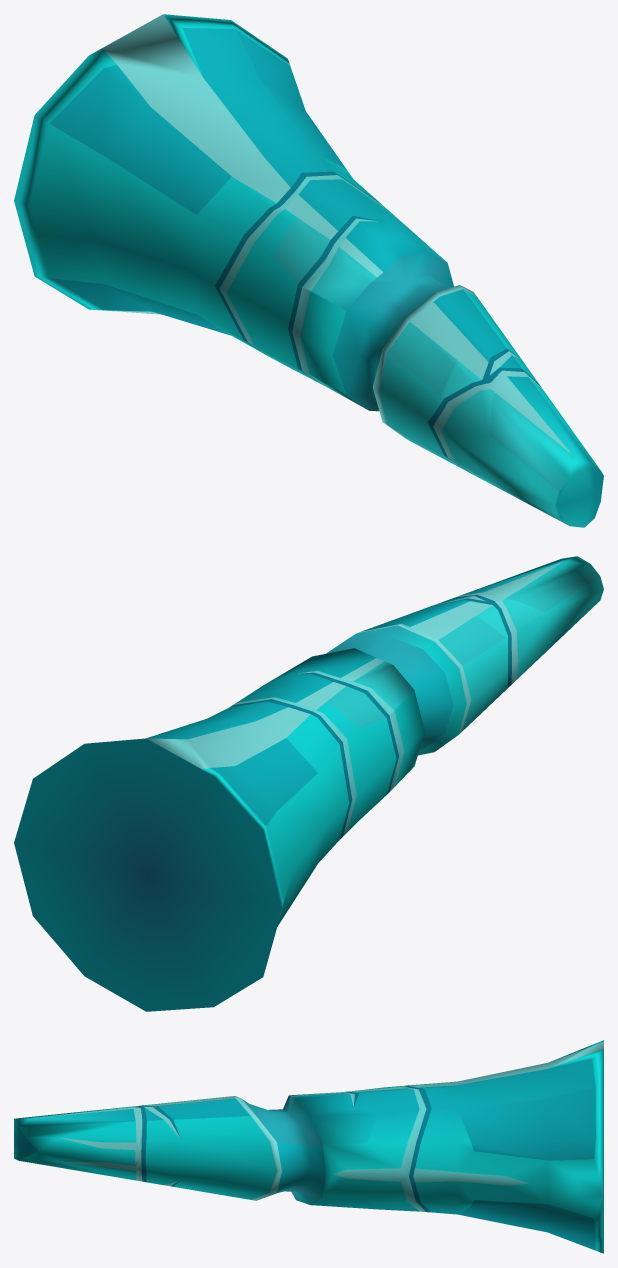
The model's file is icicleC.fbx.
3 views of the same model, one above another, from view 1: azimuth 30°, elevation 25°; view 2: azimuth 150°, elevation 25°; view 3: azimuth 270°, elevation 25° (orthographic). The views are drawn at different scales.
Parts seen in each view (by area): view 1: IcicleC (2); view 2: IcicleC (2); view 3: IcicleC (2).
Part boxes in pixels (x1,y1,x2,y2): IcicleC (2): (14,14,603,527); IcicleC (2): (14,556,603,1011); IcicleC (2): (14,1040,603,1253).
Size of the model in its own units: 86.11 by 83.91 by 227.
